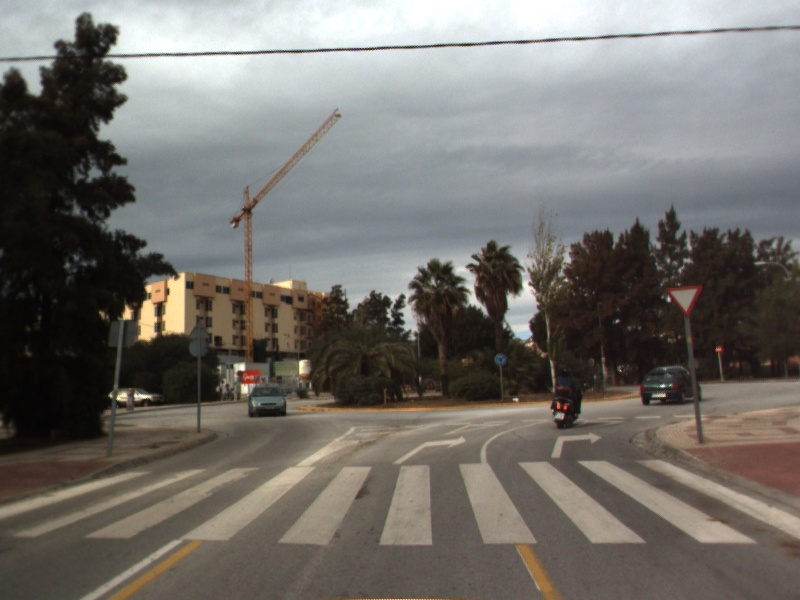RIGHT: (390, 433, 468, 466), (549, 429, 605, 460)
